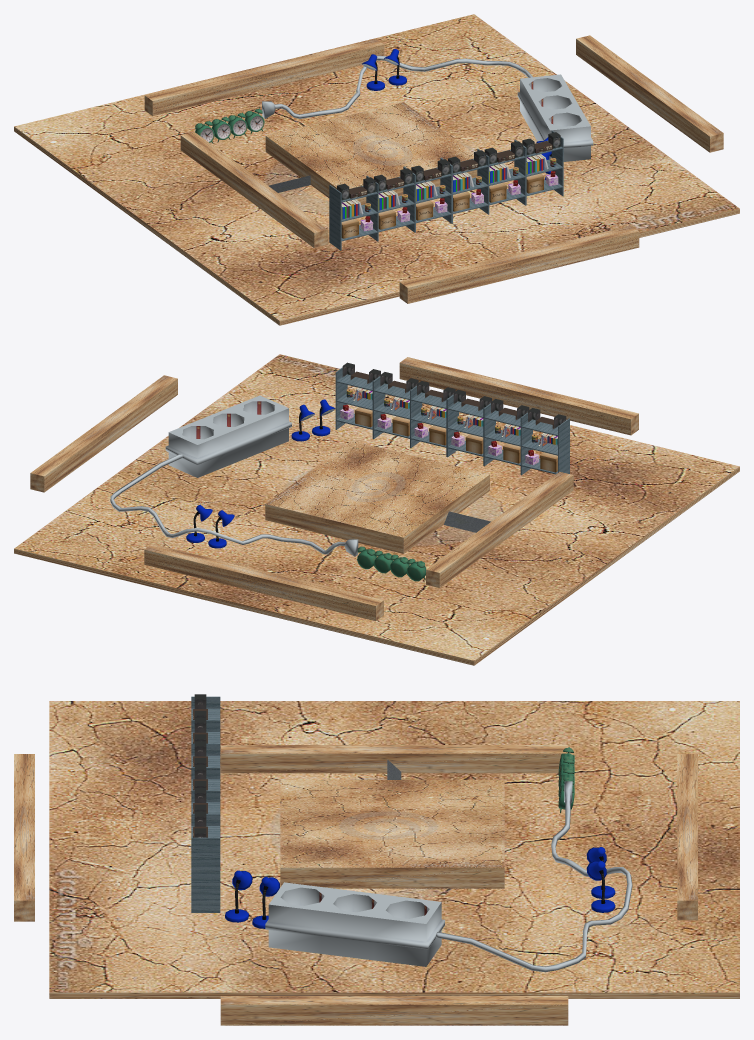
File: CircuitoBasico03.DAE
3 renders of one model, top to bottom at view 1: azimuth 30°, elevation 25°; view 2: azimuth 150°, elevation 25°; view 3: azimuth 270°, elevation 25°, orthographic. The views are drawn at different scales.
Parts seen in each view (by area): view 1: Box_Suelo, Box_Lateral_005, Box_Lateral_004, Mesh_Regleta, Box_Lateral_003, Box_Lateral_02, Box_Lateral_01, Box_Estanteria01, Box_Estanteria002, Box_Estanteria005, Box_Estanteria004, Box_Estanteria006 (+1 smaller); view 2: Box_Suelo, Box_Lateral_005, Mesh_Regleta, Box_Lateral_003, Box_Lateral_004, Box_Lateral_02, Box_Lateral_01, Box_Estanteria005, Box_Estanteria002, Box_Estanteria01, Box_Estanteria006, Box_Estanteria004 (+2 smaller); view 3: Box_Suelo, Box_Lateral_005, Mesh_Regleta, Box_Lateral_02, Box_Lateral_01, Box_Lateral_004, Box_Lateral_003, Box_Estanteria006, Box_Estanteria003, Box_Estanteria01, Box_Estanteria004, Mesh_Lampara002 (+2 smaller).
Boxes of the visible parts, x1=… form: Box_Suelo: x1=14, y1=14, x2=739, y2=325; Box_Lateral_005: x1=265, y1=102, x2=477, y2=205; Box_Lateral_004: x1=399, y1=225, x2=639, y2=303; Mesh_Regleta: x1=262, y1=55, x2=593, y2=161; Box_Lateral_003: x1=144, y1=39, x2=384, y2=116; Box_Lateral_02: x1=576, y1=35, x2=723, y2=152; Box_Lateral_01: x1=180, y1=132, x2=328, y2=247; Box_Estanteria01: x1=329, y1=176, x2=378, y2=250; Box_Estanteria002: x1=366, y1=167, x2=415, y2=241; Box_Estanteria005: x1=477, y1=139, x2=525, y2=214; Box_Estanteria004: x1=440, y1=149, x2=489, y2=223; Box_Estanteria006: x1=515, y1=130, x2=563, y2=205; Box_Suelo: x1=14, y1=354, x2=739, y2=665; Box_Lateral_005: x1=265, y1=441, x2=489, y2=553; Mesh_Regleta: x1=110, y1=395, x2=358, y2=556; Box_Lateral_003: x1=144, y1=544, x2=383, y2=620; Box_Lateral_004: x1=399, y1=357, x2=638, y2=435; Box_Lateral_02: x1=30, y1=375, x2=177, y2=492; Box_Lateral_01: x1=426, y1=472, x2=573, y2=587; Box_Estanteria005: x1=373, y1=372, x2=422, y2=448; Box_Estanteria002: x1=484, y1=399, x2=532, y2=475; Box_Estanteria01: x1=520, y1=408, x2=569, y2=474; Box_Estanteria006: x1=335, y1=362, x2=380, y2=438; Box_Estanteria004: x1=410, y1=381, x2=458, y2=457; Box_Suelo: x1=49, y1=701, x2=739, y2=998; Box_Lateral_005: x1=280, y1=780, x2=504, y2=888; Mesh_Regleta: x1=265, y1=781, x2=632, y2=972; Box_Lateral_02: x1=220, y1=996, x2=568, y2=1025; Box_Lateral_01: x1=220, y1=745, x2=568, y2=773; Box_Lateral_004: x1=14, y1=754, x2=34, y2=921; Box_Lateral_003: x1=677, y1=754, x2=697, y2=920; Box_Estanteria006: x1=191, y1=811, x2=220, y2=912; Box_Estanteria003: x1=191, y1=741, x2=220, y2=779; Box_Estanteria01: x1=191, y1=694, x2=220, y2=731; Box_Estanteria004: x1=191, y1=764, x2=220, y2=802; Mesh_Lampara002: x1=225, y1=870, x2=252, y2=922.
Size of the model in its own units: 110 by 105 by 13.91.
Materials: 6 (6 with a texture image).
